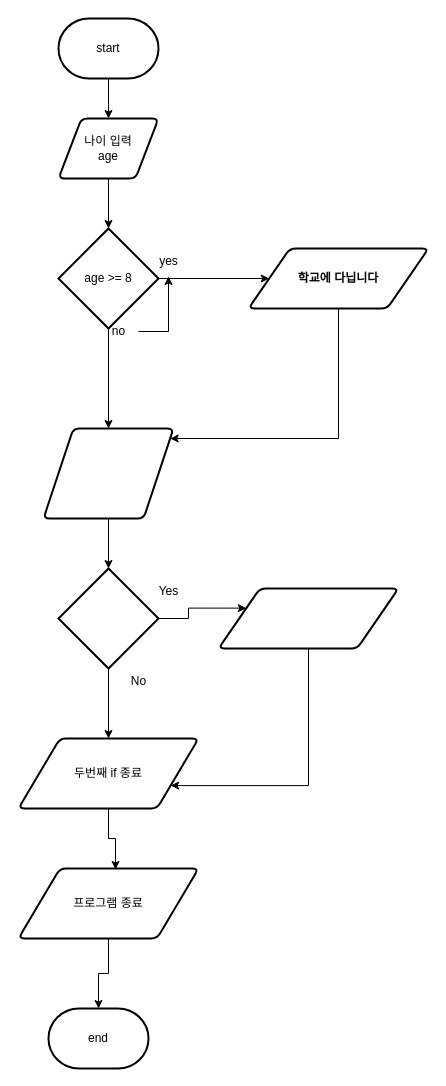
The diagram is 446 pixels wide and 1086 high, and some of its shapes have lost their labels. The centre of each missing label's shape, as x and y in pixels:
"age < 8" goes at (108,618).
"첫번째 if 종료" goes at (108,473).
"학교에 안 감" goes at (308,618).
